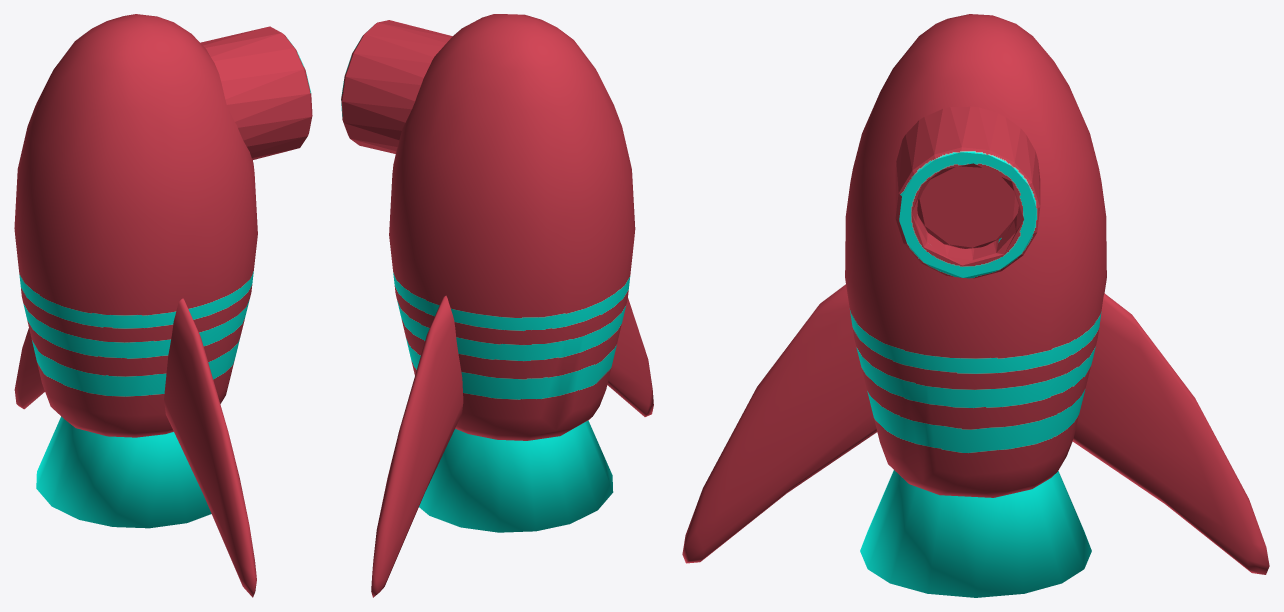
Rendered from RedShip63.fbx.
3 views of the same model, side by side, from view 1: azimuth 30°, elevation 25°; view 2: azimuth 150°, elevation 25°; view 3: azimuth 270°, elevation 25° (orthographic). The views are drawn at different scales.
Parts seen in each view (by area): view 1: Cylinder.003; view 2: Cylinder.003; view 3: Cylinder.003.
Boxes of the visible parts, x1,y1,x2,y2 form: Cylinder.003: (14, 14, 312, 597); Cylinder.003: (341, 14, 653, 597); Cylinder.003: (682, 14, 1269, 597).
Size of the model in its own units: 118 by 219 by 213.
Materials: 1 (1 with a texture image).
